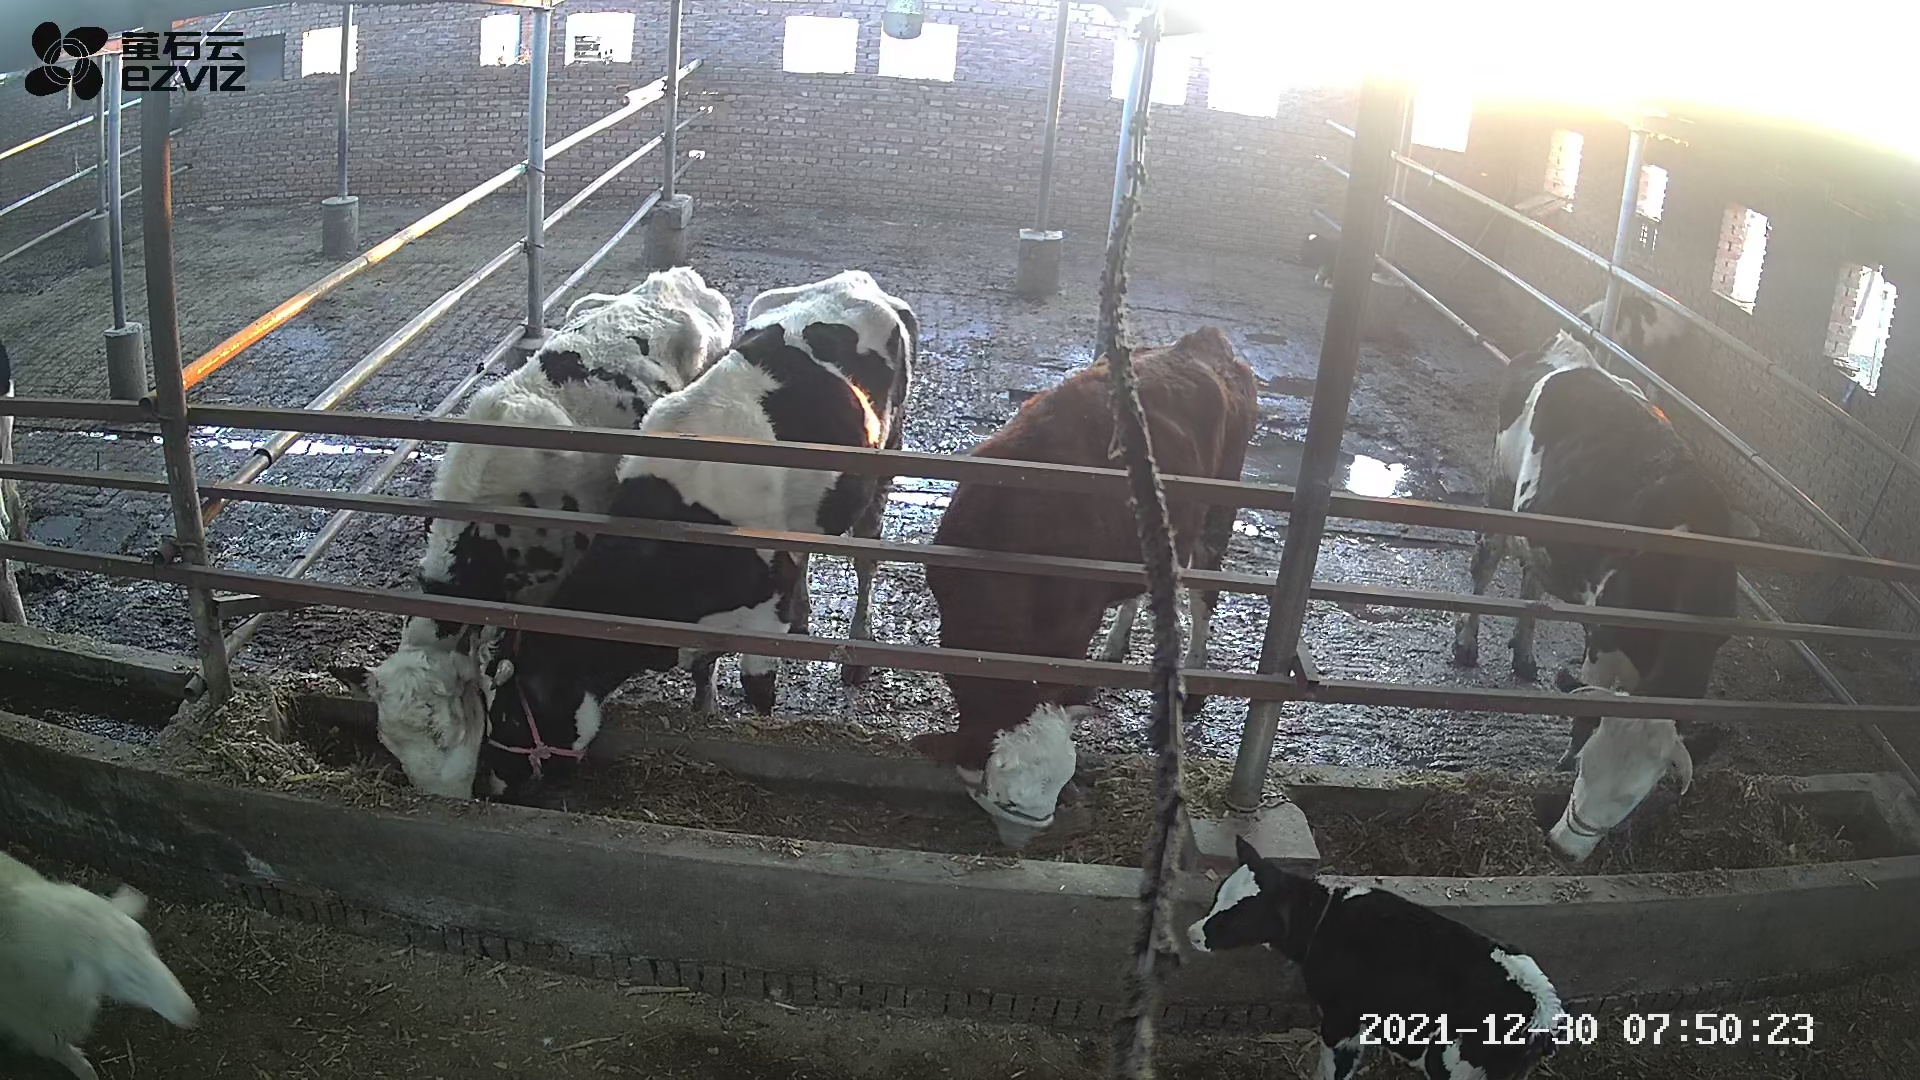cow: (483, 268, 920, 798), (327, 262, 732, 807), (909, 324, 1255, 847), (1448, 327, 1727, 861)
